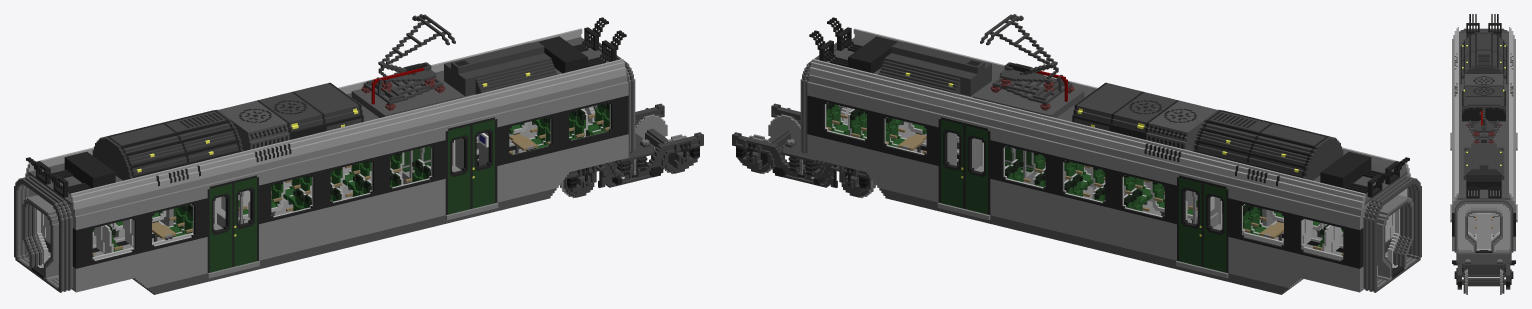
File: mitte_panto.obj
3 renders of one model, left to right at view 1: azimuth 30°, elevation 25°; view 2: azimuth 150°, elevation 25°; view 3: azimuth 270°, elevation 25°, orthographic. The views are drawn at different scales.
Visible parts, largest first — view 1: FRAME, BOGEY_REAR, BOGEY_REAR_WHEEL_1; view 2: FRAME, BOGEY_REAR, BOGEY_REAR_WHEEL_1; view 3: FRAME, BOGEY_REAR, BOGEY_REAR_WHEEL_1.
Part boxes in pixels (left/top/right/bottom): FRAME: left=14, top=14, right=635, bottom=294; BOGEY_REAR: left=565, top=103, right=703, bottom=193; BOGEY_REAR_WHEEL_1: left=635, top=114, right=689, bottom=173; FRAME: left=800, top=14, right=1421, bottom=294; BOGEY_REAR: left=732, top=103, right=870, bottom=193; BOGEY_REAR_WHEEL_1: left=746, top=114, right=800, bottom=173; FRAME: left=1450, top=14, right=1517, bottom=254; BOGEY_REAR: left=1452, top=254, right=1515, bottom=289; BOGEY_REAR_WHEEL_1: left=1462, top=269, right=1505, bottom=294.
Size of the model in its own units: 19.62 by 5.62 by 2.88.
1 material, 1 textured.
